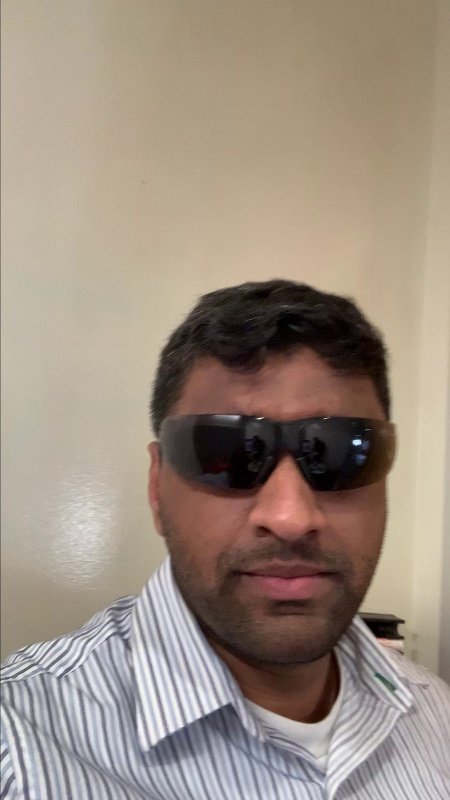glasses: (144, 406, 414, 494)
